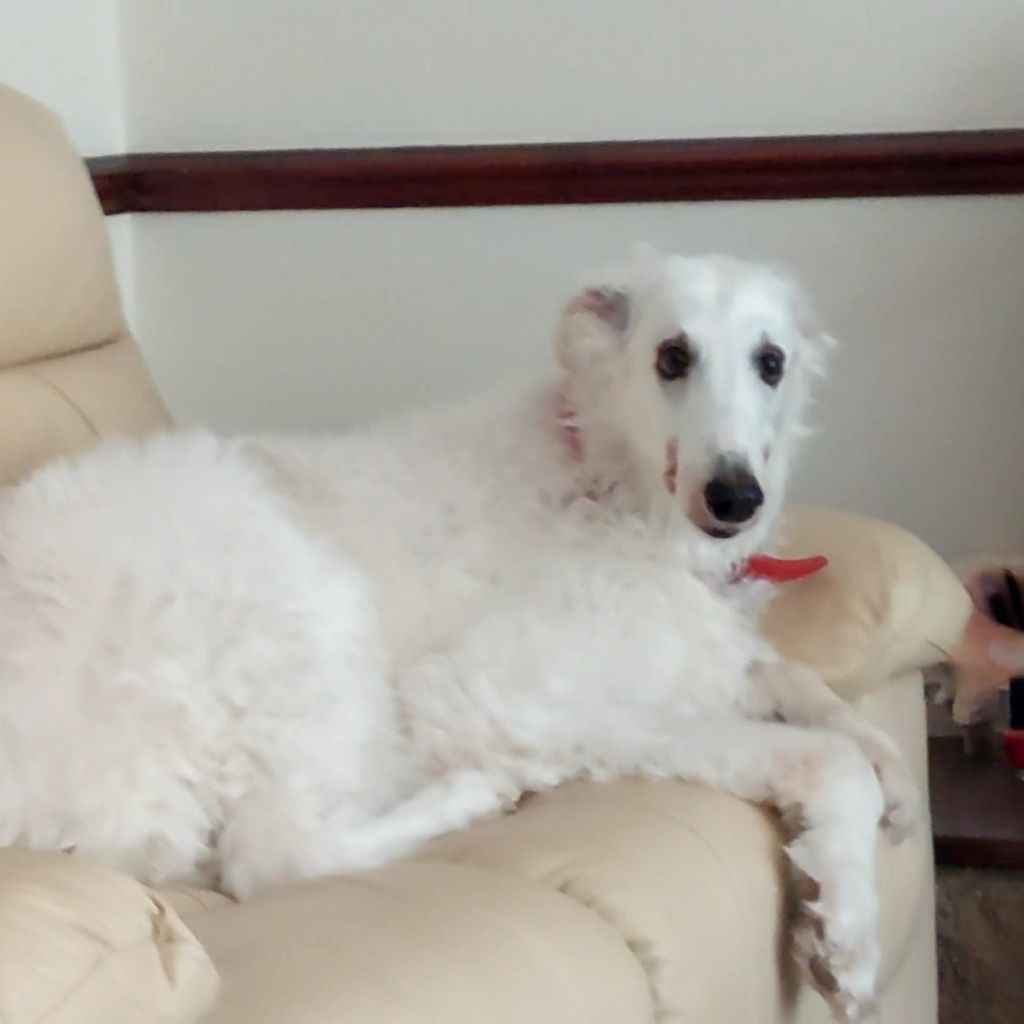borzoi: (12, 240, 957, 1002)
